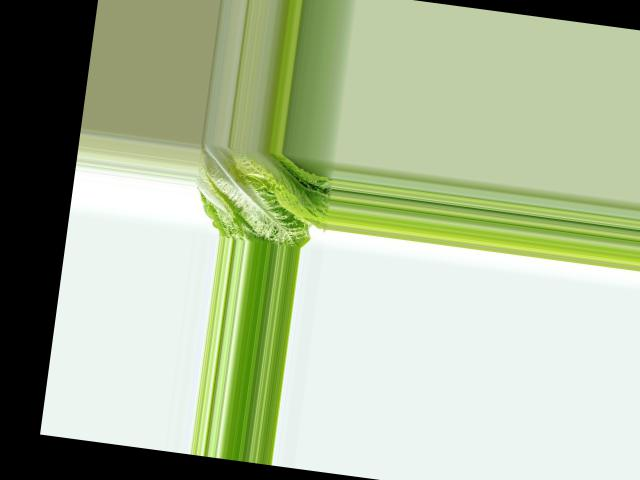lettuce: (189, 143, 337, 250)
